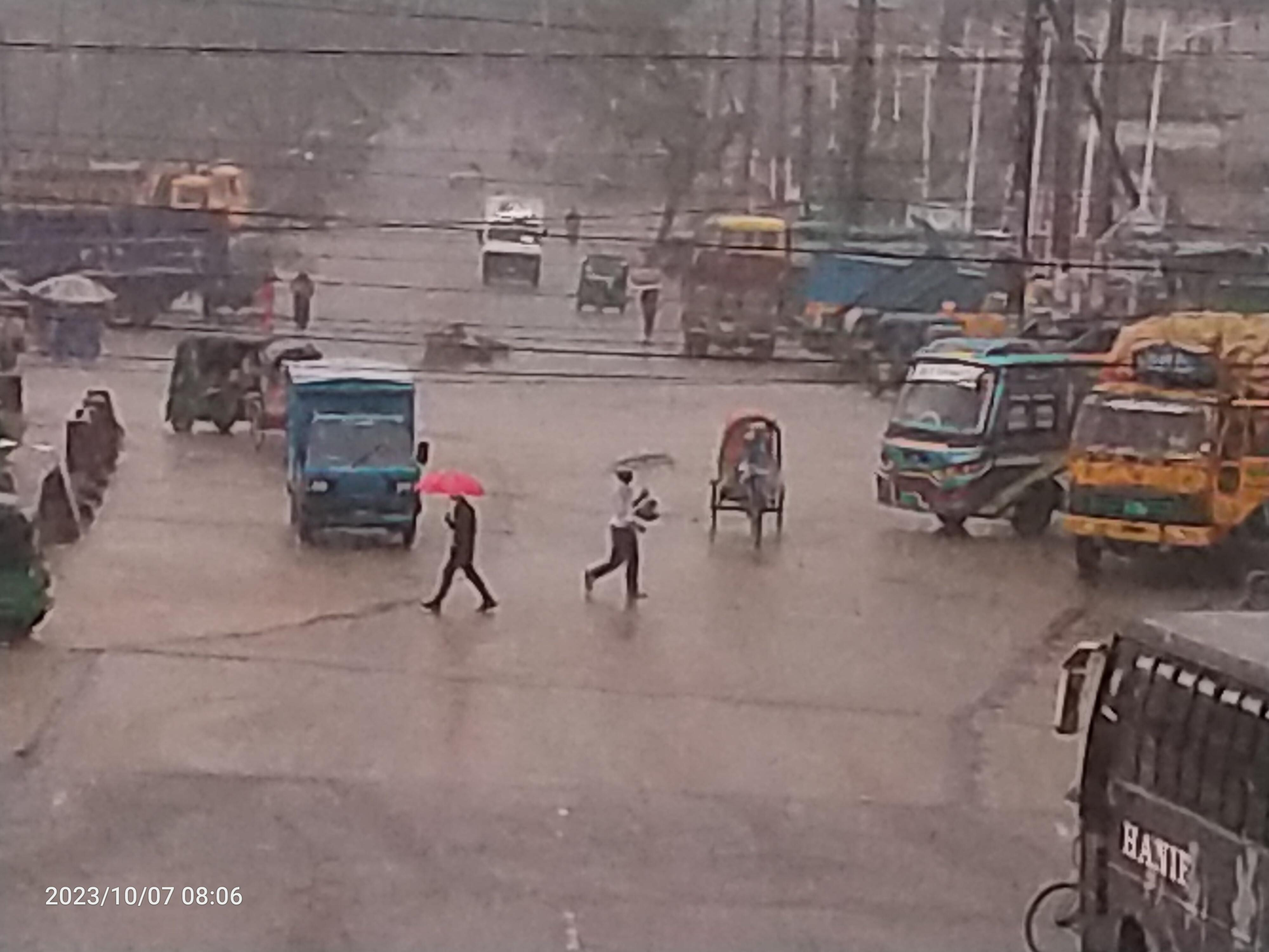Bus: (1027, 595, 1269, 952), (858, 319, 1074, 541)
Car: (690, 394, 823, 562), (470, 174, 565, 299)
Truck: (1044, 296, 1269, 595), (0, 134, 251, 340), (264, 346, 461, 563)
